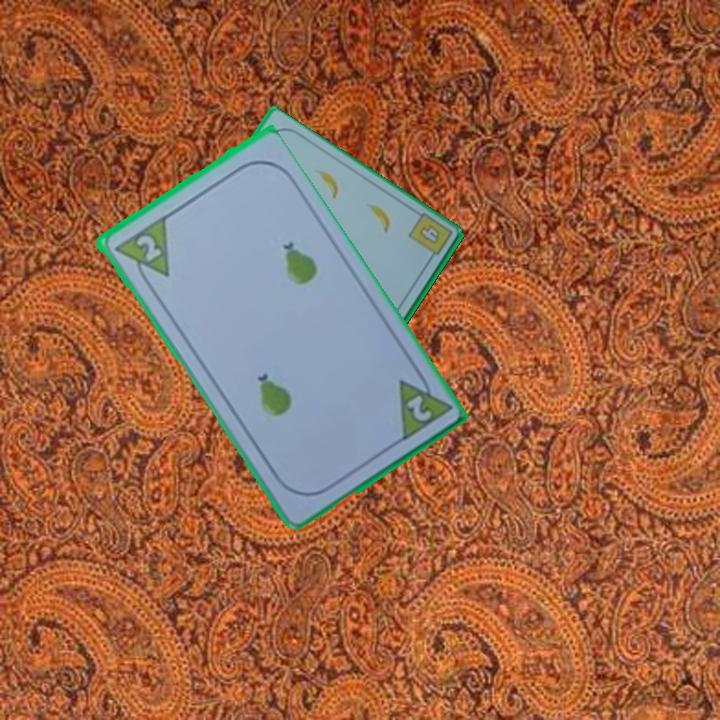2p: (394, 365, 453, 445), (131, 230, 164, 264)
4b: (405, 210, 455, 265)
